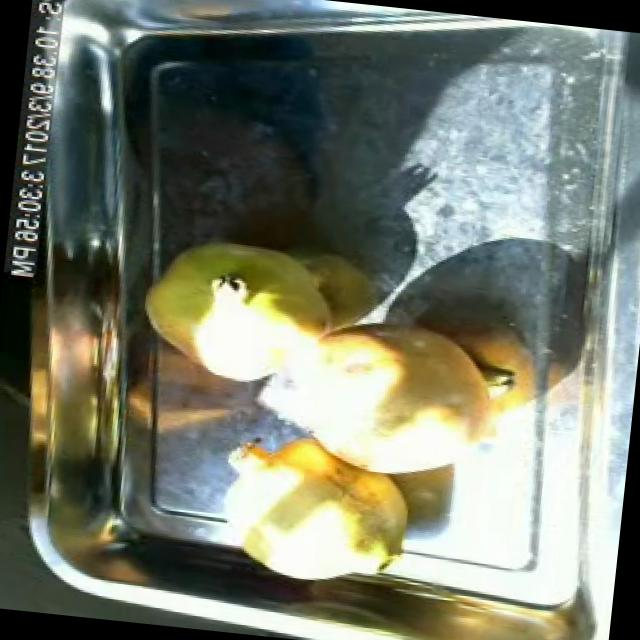fruit: (282, 298, 532, 499), (127, 217, 350, 402), (213, 413, 438, 596)
